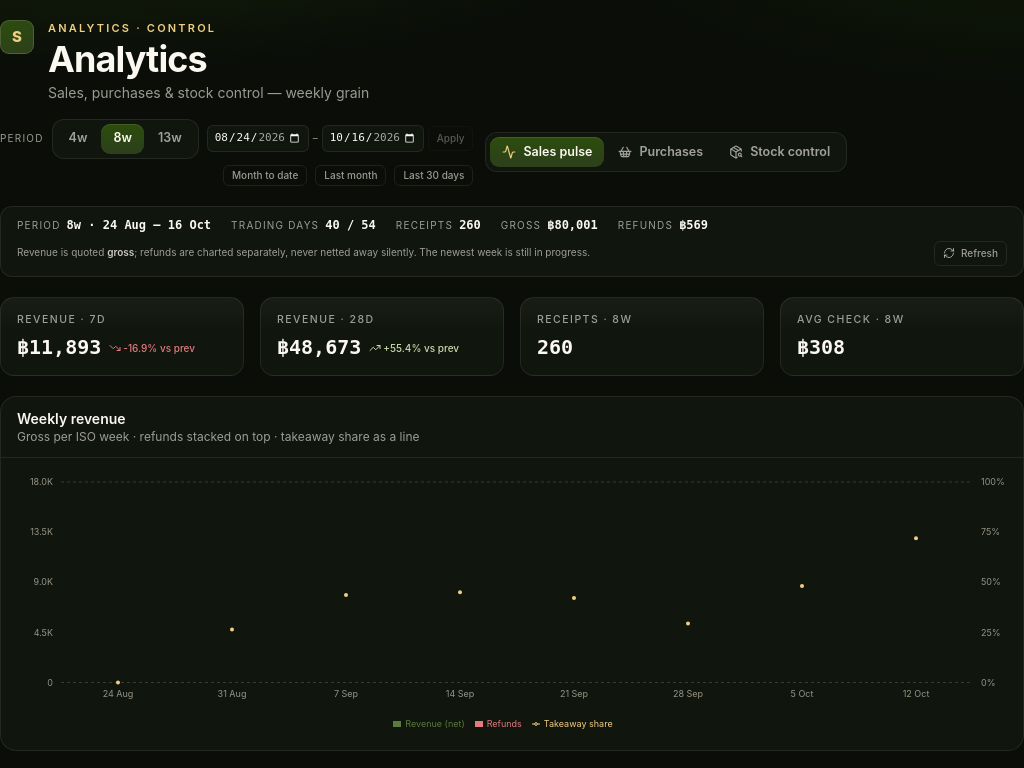
Test: SalesPulseTab — rendered figures match prod SQL › honours a custom from–to range on the day-grain figures
Expected: the text "Trading days" is shown, [231,218,319,232]
Type "2026-10-01" into the 1st date field named "From date" at (258, 139), box [207,125,309,152]
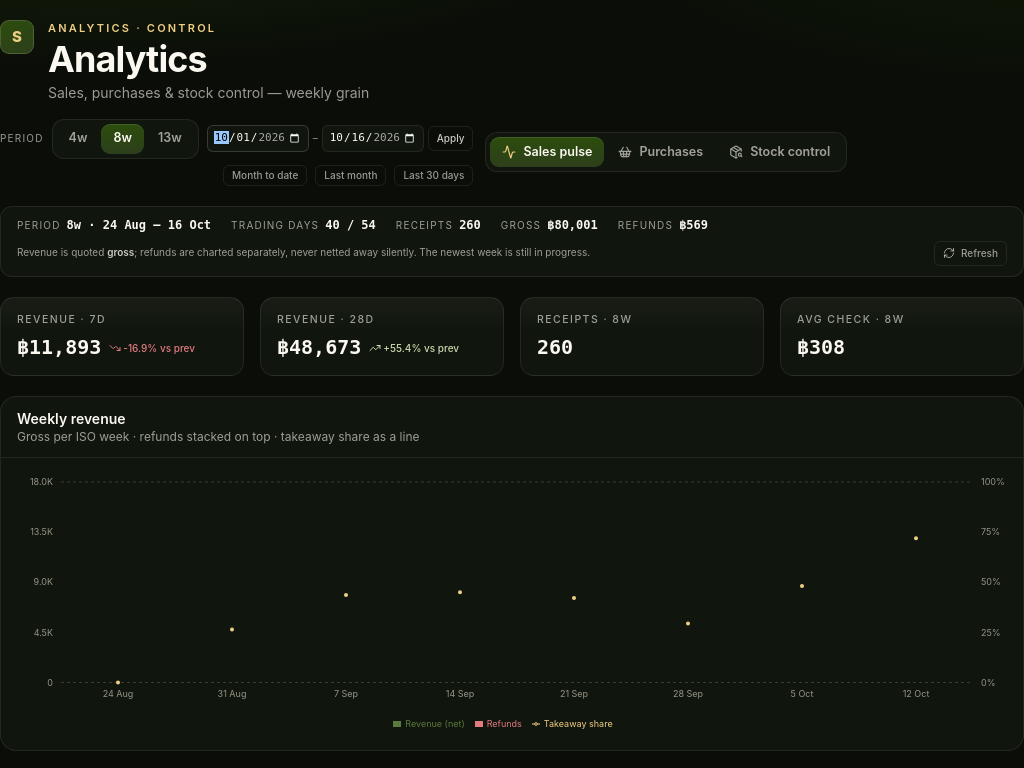
Type "2026-10-15" into the 2nd date field named "To date" at (373, 139), box [322,125,424,152]
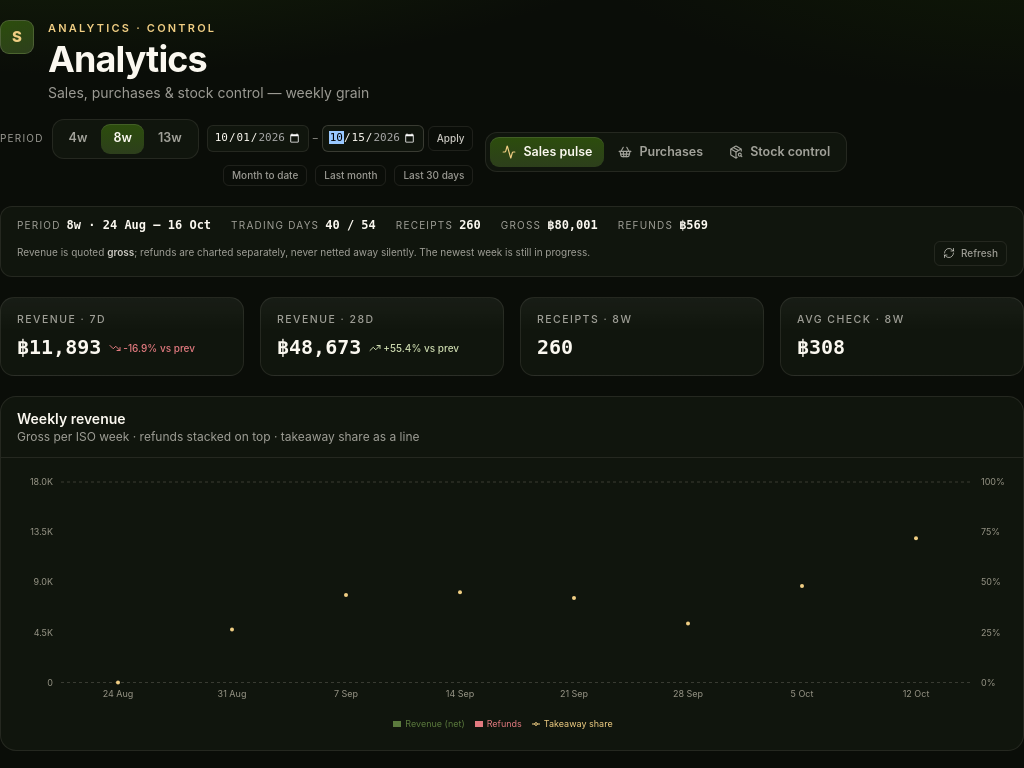
Click the button "Apply" at (451, 138), box [428,126,474,151]
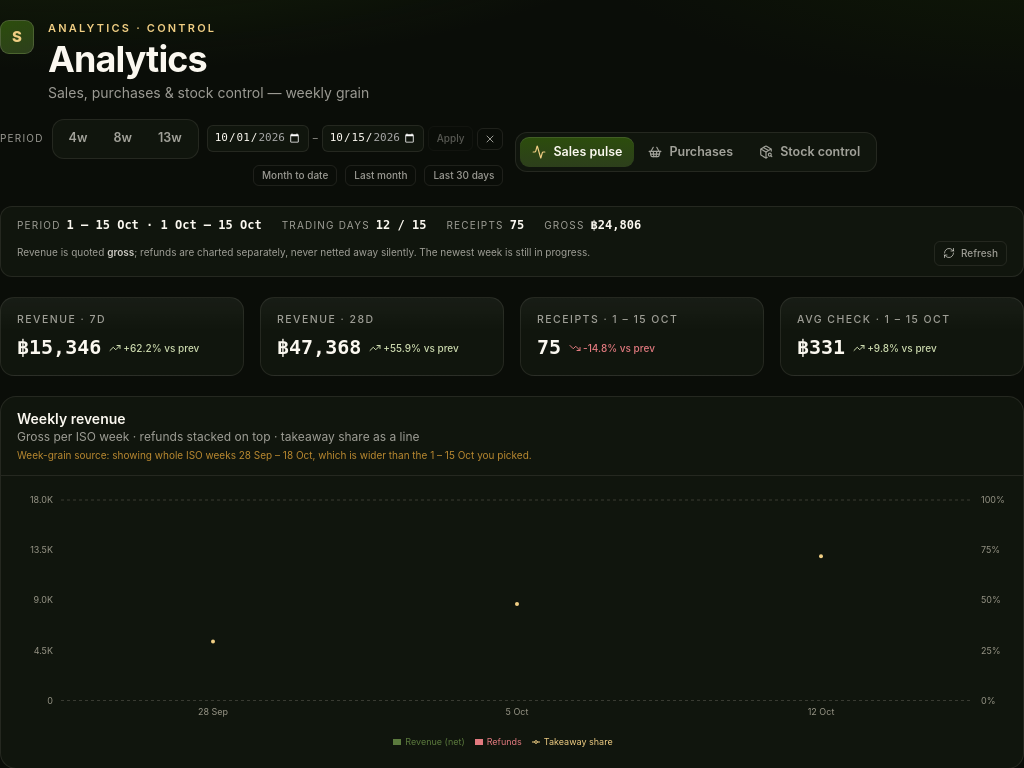
Now the text "Receipts · 1 – 15 Oct" is shown, box [537,312,678,326]
Now the text "75" next to "-14.8" is shown, box [537,335,561,359]
Now the text "฿24,806" is shown, box [590,216,641,232]
